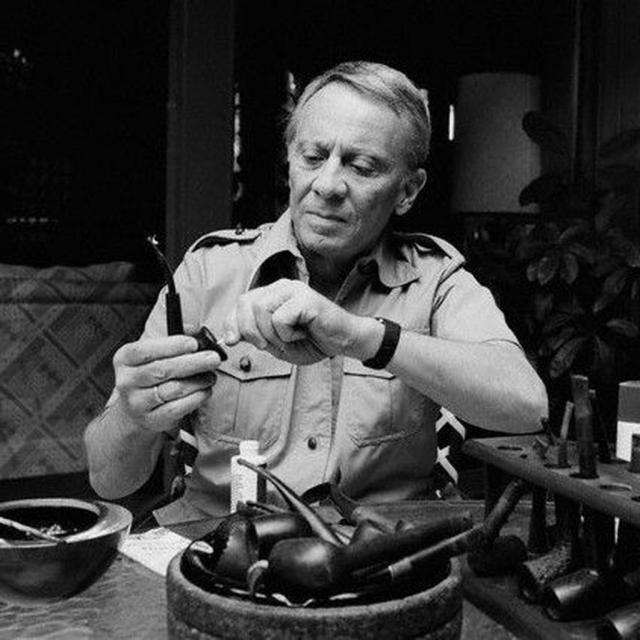smoking: (118, 65, 440, 422)
